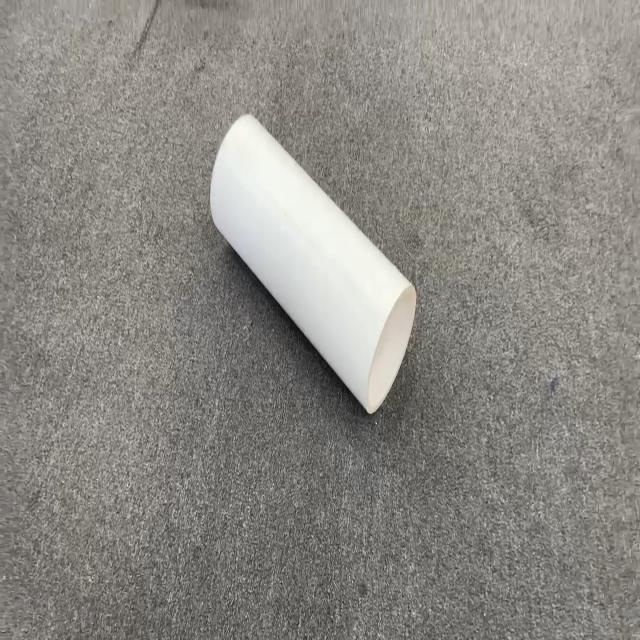coral: (209, 111, 417, 415)
